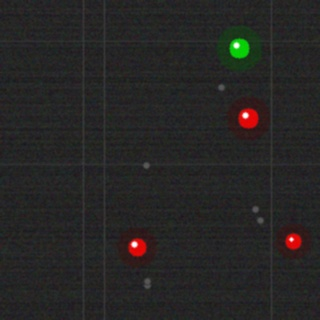green_normal: (227, 36, 251, 60)
red_fault: (236, 106, 260, 130), (126, 236, 148, 258), (283, 231, 303, 251)
